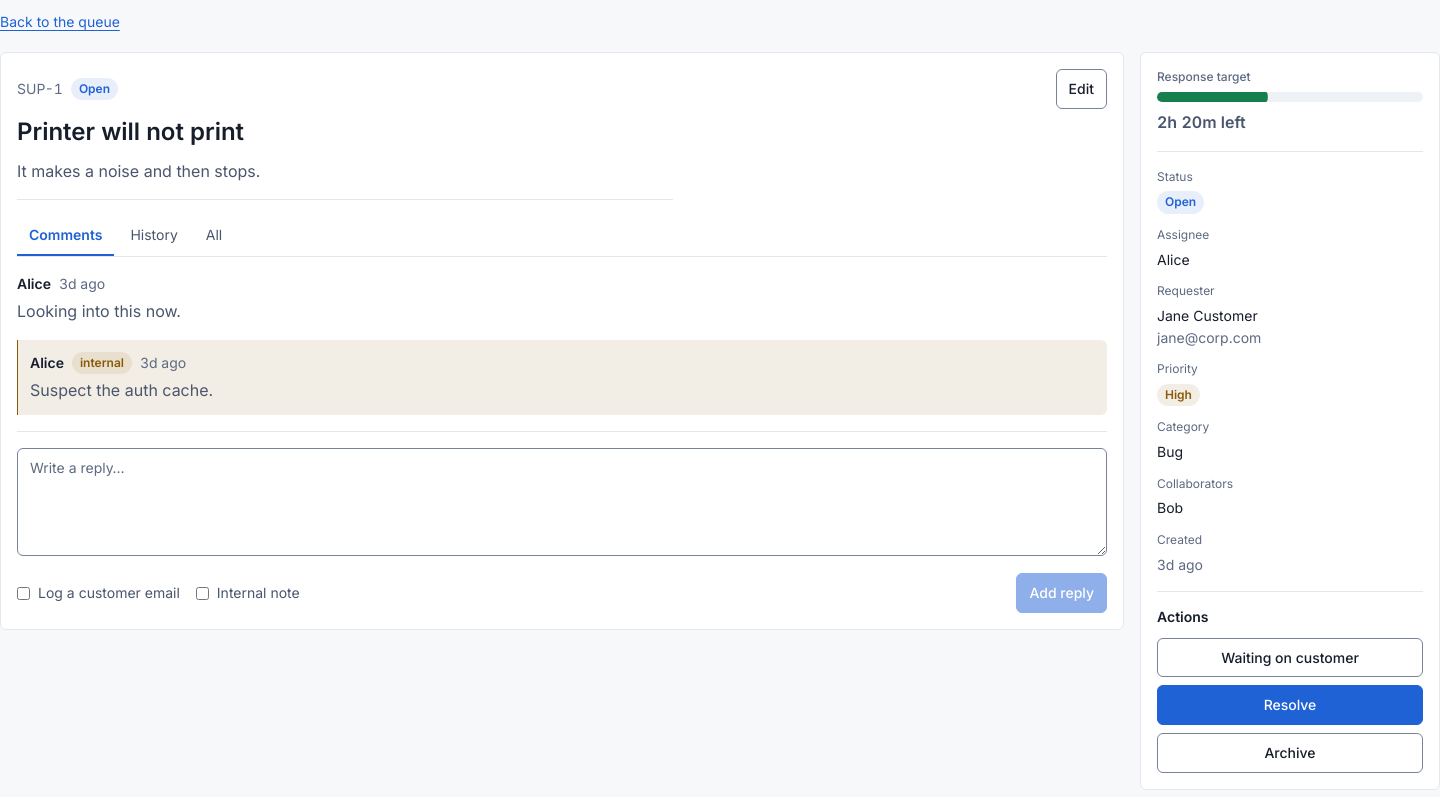
Test: TicketDetailPage › editing the ticket › re-renders from the response and closes the editor on success
Click the button "Edit" at [1081, 89], box [1056,69,1107,109]
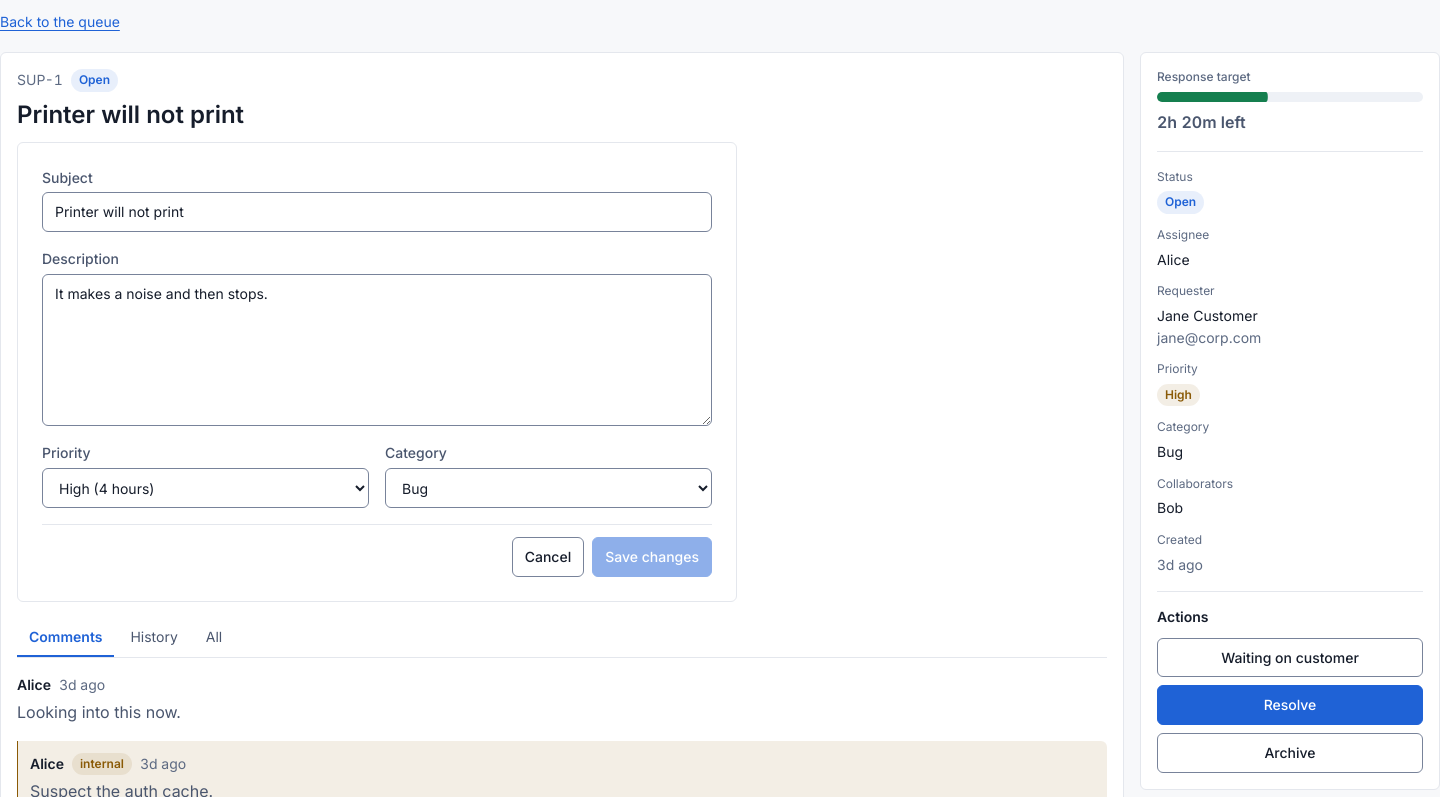
Replace the text in the field labelled "Subject" with "Printer jams on page 2" at [377, 212], box [42,192,712,232]
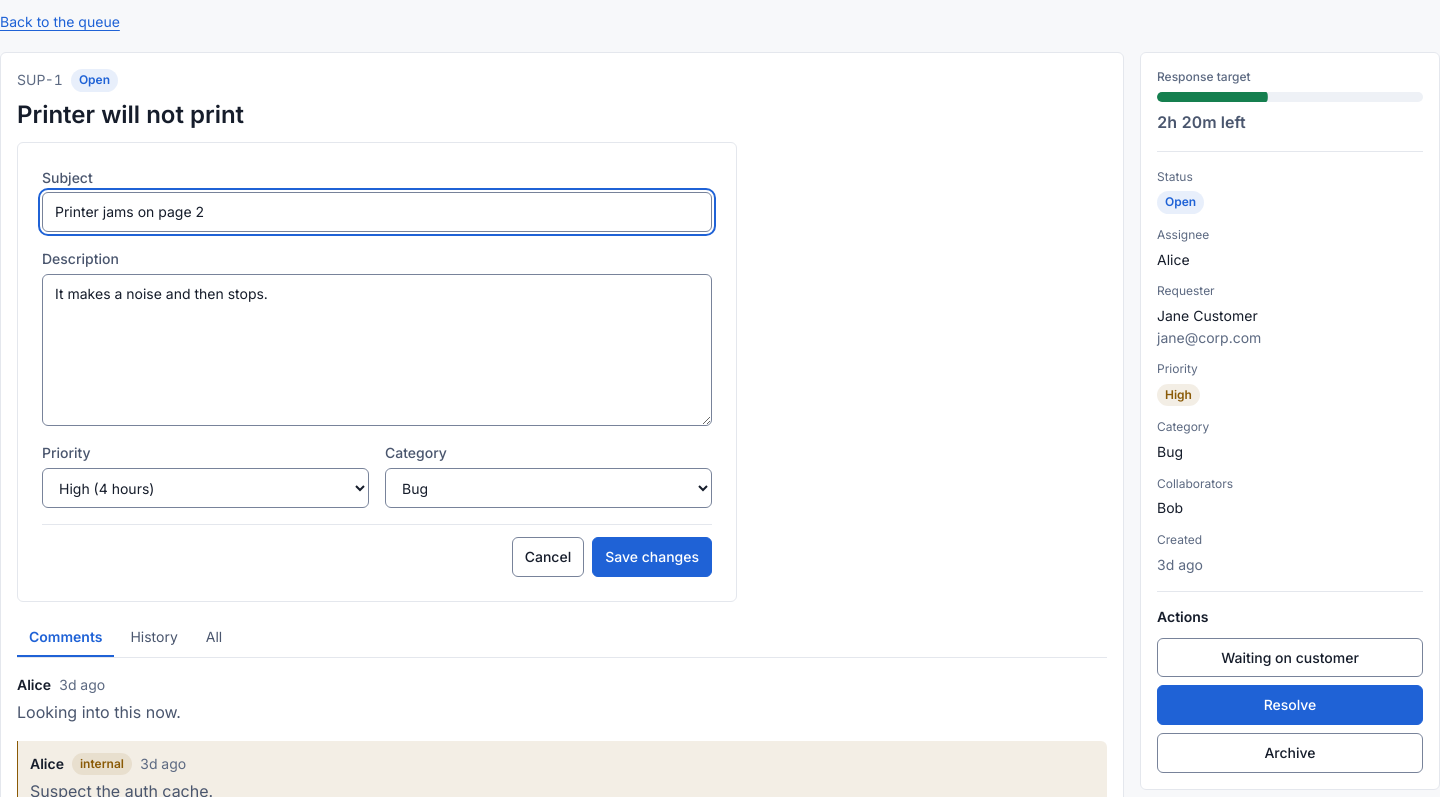
Click the button "Save changes" at [652, 557], box [592,537,712,577]
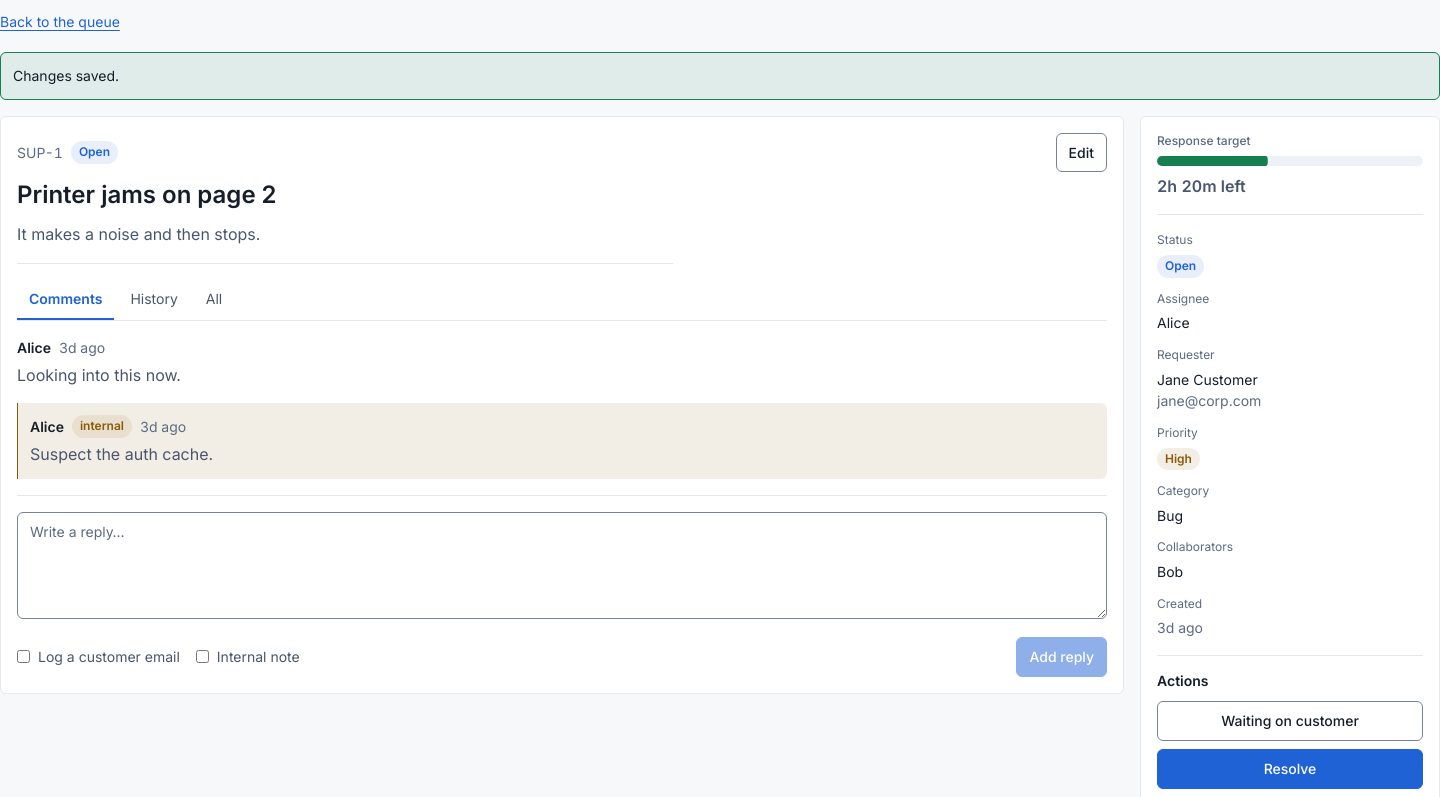
expect the heading "Printer jams on page 2" is shown: met, box [17,180,277,209]
expect the label labelled "Subject" is gone: met
